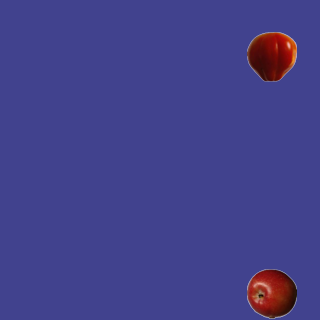Apple Braeburn: (246, 268, 296, 318)
Tomato 1: (246, 31, 296, 81)
